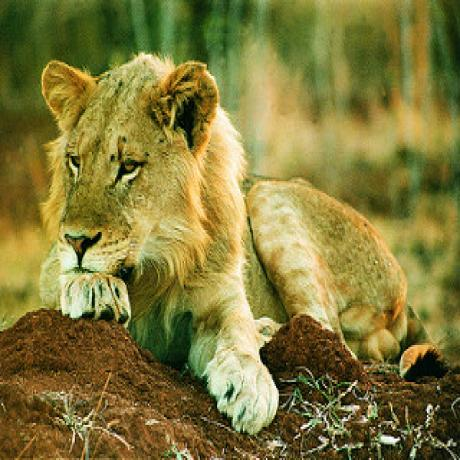Lion: (40, 53, 446, 428)
